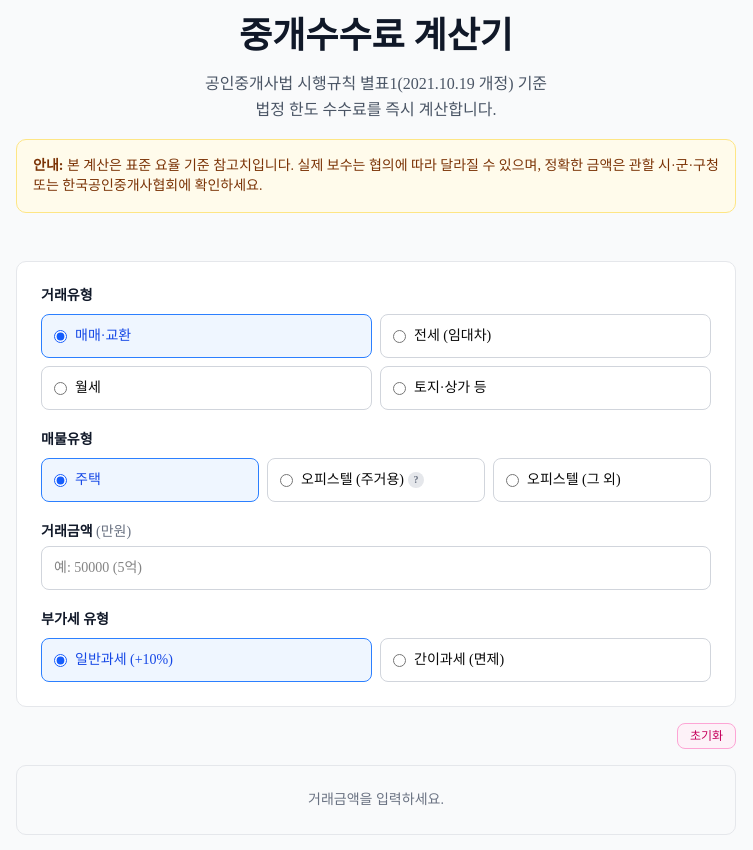
it: /tools/brokerage-fee 페이지 › 초기화 버튼 — 거래금액·거래유형이 마운트 초기값으로 복귀
값 변경 + 거래유형 전환
Type "50000" into the number field labelled "거래금액 (만원)". click: (376, 568)
box: [41,546,711,590]
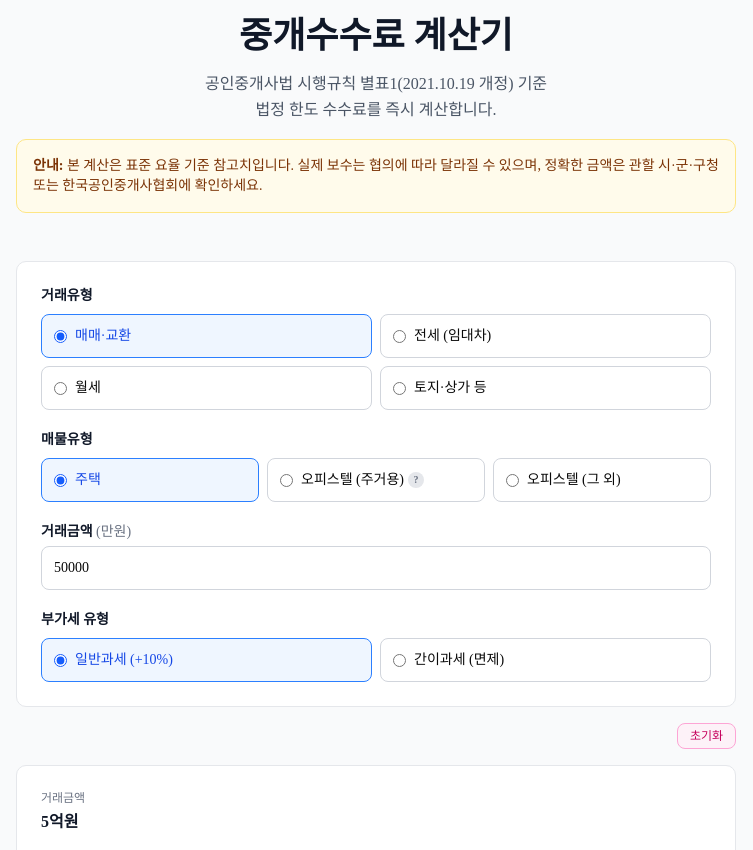
Click the radio button labelled "월세". click: (60, 388)
box: [54,382,67,394]
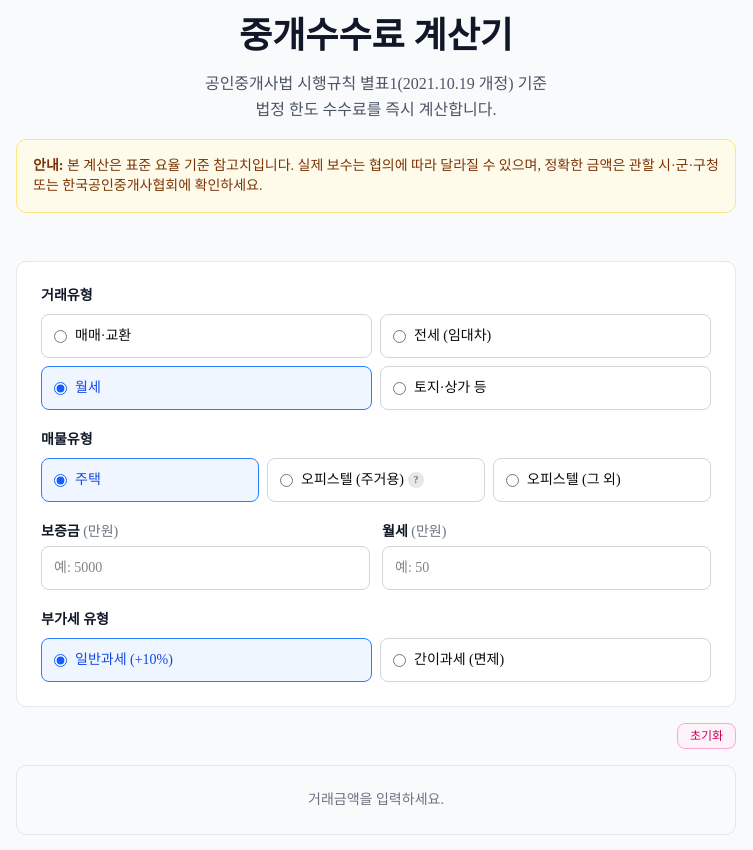
Check: the number field labelled "보증금 (만원)" is shown, box [41,546,370,590]
Click the button "초기화". click: (706, 736)
box: [677,723,736,749]
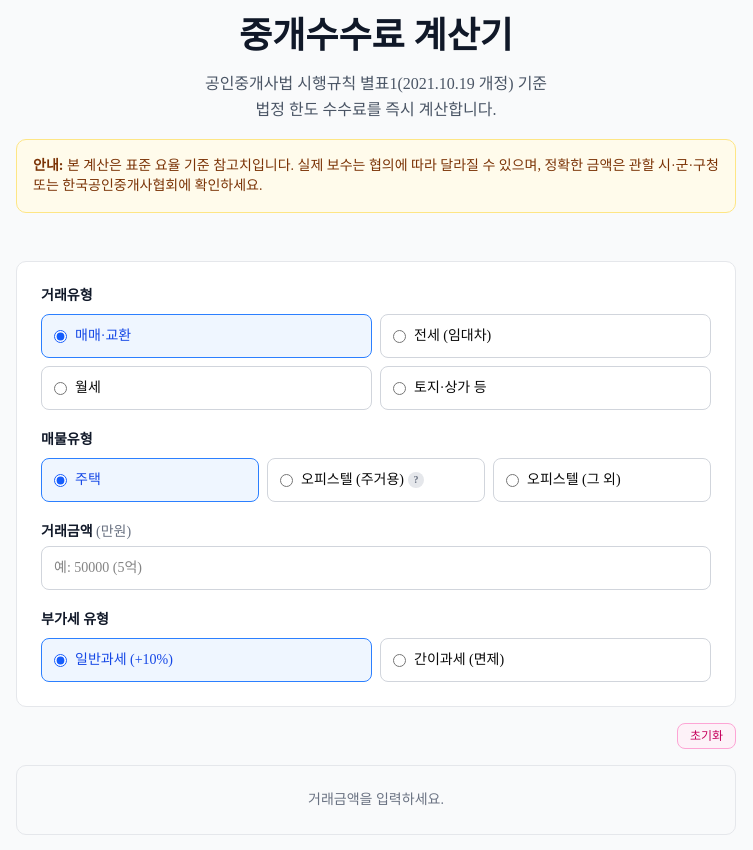
Check: the text "거래금액을 입력하세요." is shown, box [16,765,736,835]
Check: the number field labelled "거래금액 (만원)" is empty, box [41,546,711,590]
Check: the label labelled "보증금 (만원)" is gone
